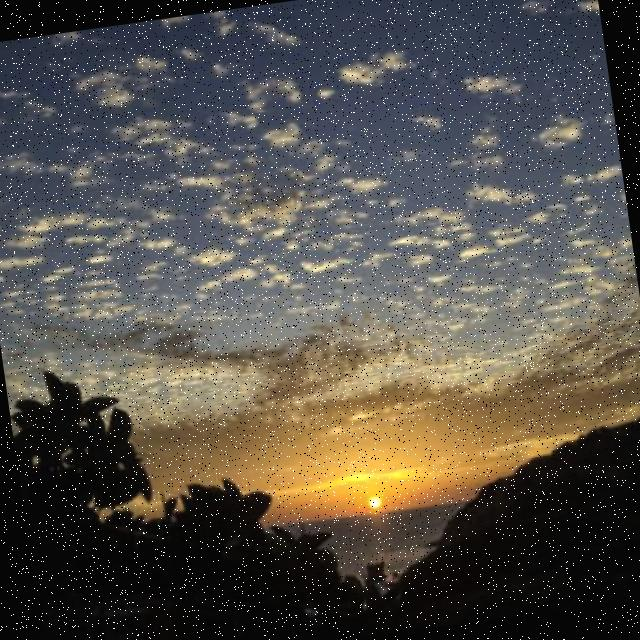Cc: (1, 1, 639, 377)
